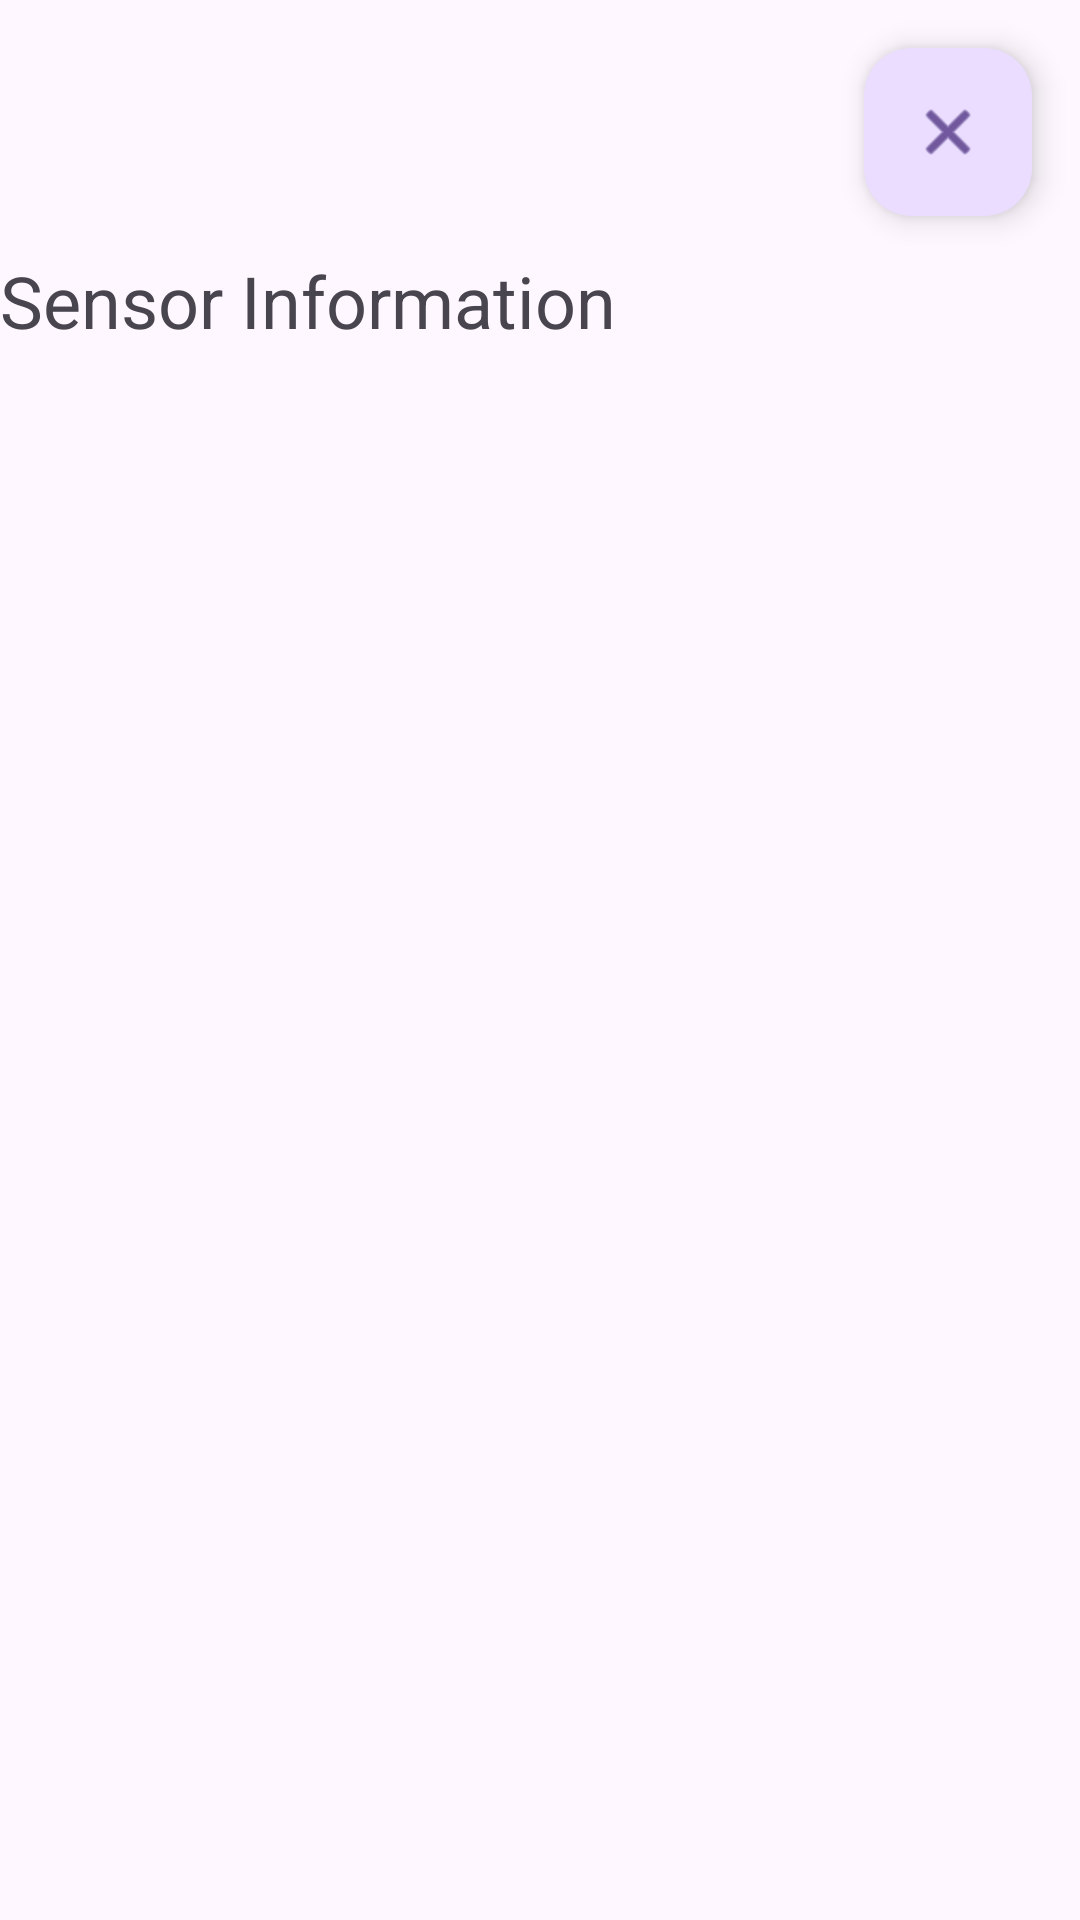

Where icons sit on this 1080 × 1920 app screen, as Rect(x1, y1, x2, y2):
close clear cancel: Rect(925, 109, 971, 155)
